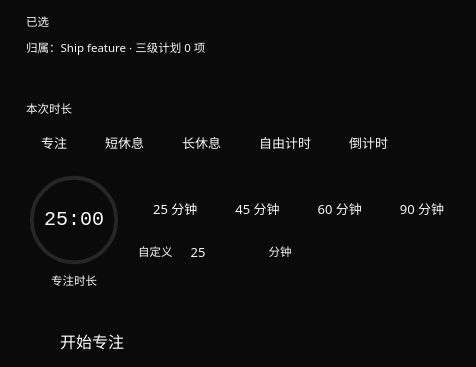
SessionLauncher 准备态静止环预览（工单②） › 随预设点击与分钟输入实时更新（与运行态同格式；分钟不封顶）
The image size is (476, 367).
Step 1. Click the button "90 分钟" → x=422, y=210, box [385,193,459,227]
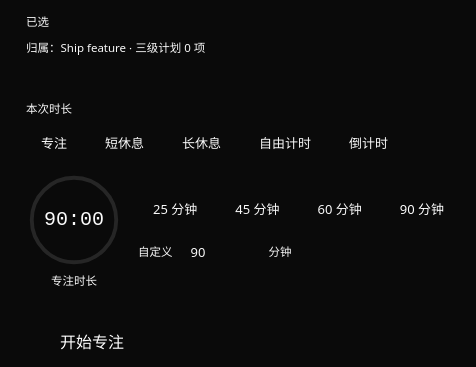
Now the element with test id "launcher-ring-preview" shows "90:00", box [44,208,104,232]
Step 2. Replace the text in the number field named "Planned minutes" with "150" → x=220, y=253, box [180,235,260,271]
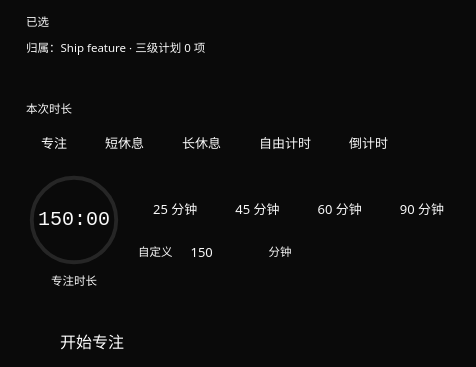
Now the element with test id "launcher-ring-preview" shows "150:00", box [38,208,110,232]
